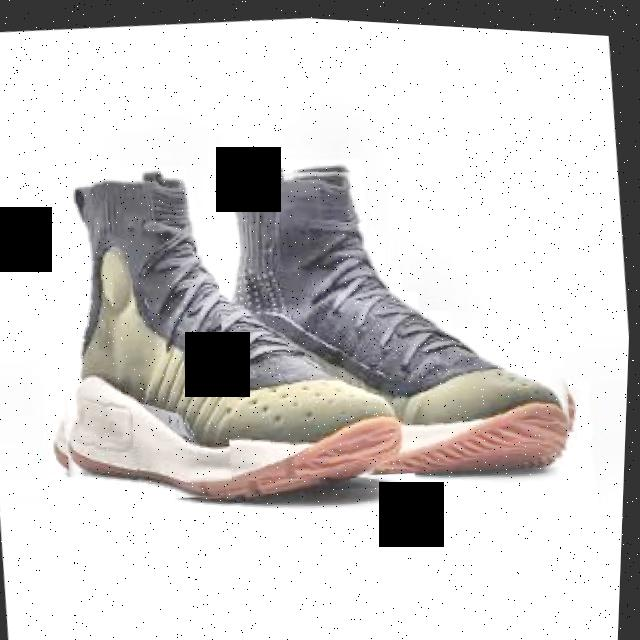shoe: (26, 137, 429, 520), (203, 132, 591, 494)
